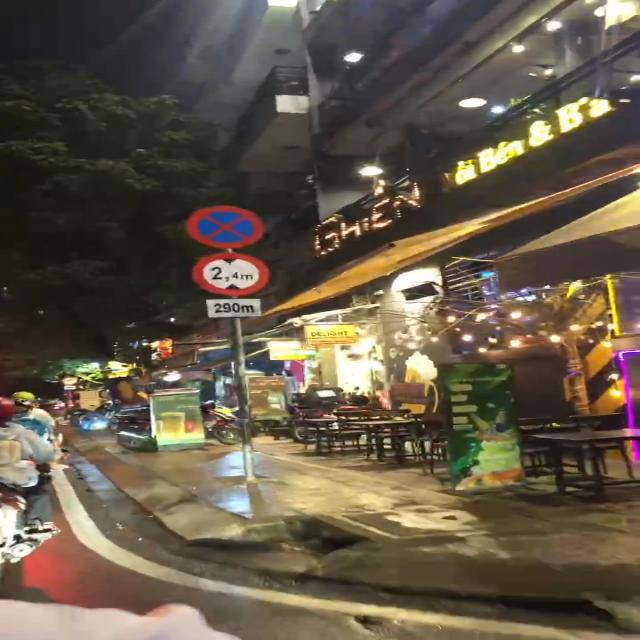Bien bao cam dung xe va do xe: (185, 202, 269, 248)
Bien bao han che chieu cao: (185, 252, 276, 298)
